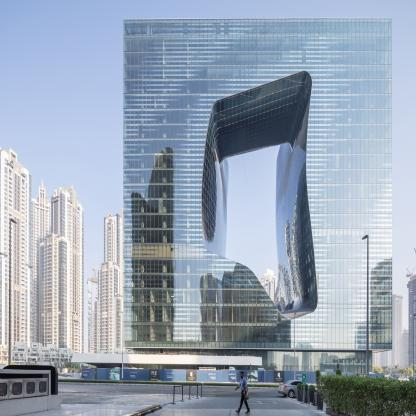Building Outline: (123, 18, 392, 383)
Dont: (71, 235, 384, 385), (202, 70, 318, 320), (234, 371, 251, 415)
Facade: (134, 18, 372, 383)
Floor: (124, 326, 392, 348), (124, 18, 392, 36), (124, 307, 392, 323), (134, 348, 372, 363), (124, 291, 392, 304), (124, 231, 392, 243), (124, 216, 392, 228), (124, 187, 392, 199), (124, 171, 392, 183), (124, 142, 392, 154), (124, 127, 392, 139), (124, 112, 392, 124), (124, 97, 392, 109), (124, 81, 392, 93), (124, 39, 392, 51), (124, 276, 392, 287), (124, 261, 392, 272), (124, 247, 392, 258), (124, 202, 392, 213), (124, 157, 392, 168), (124, 67, 392, 78), (124, 55, 392, 65)
Floor Slab: (124, 36, 392, 39), (124, 304, 392, 307), (124, 287, 392, 290), (124, 273, 392, 276), (124, 258, 392, 261), (124, 244, 392, 247), (124, 228, 392, 231), (124, 213, 392, 216), (124, 199, 392, 202), (124, 184, 392, 187), (124, 168, 392, 171), (124, 154, 392, 157), (124, 139, 392, 142), (124, 124, 392, 127), (124, 109, 392, 112), (124, 94, 392, 97), (124, 78, 392, 81), (124, 65, 392, 68), (124, 51, 392, 54), (124, 323, 392, 326), (124, 346, 392, 349), (134, 363, 372, 365)
Ground Floor: (134, 365, 372, 382)
